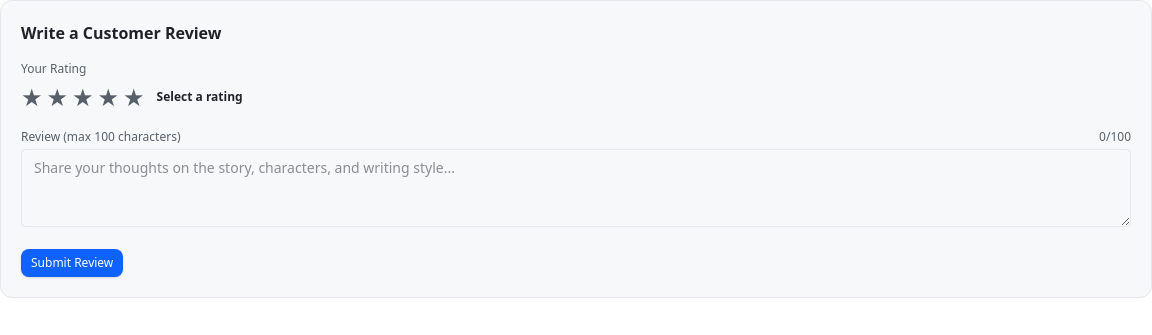
Scenario: ReviewFormTest › emptyBodyBlocked: an empty review is not sent
Click the button named "Rate 4 stars" at (108, 97), box left=98, top=81, right=119, bottom=113
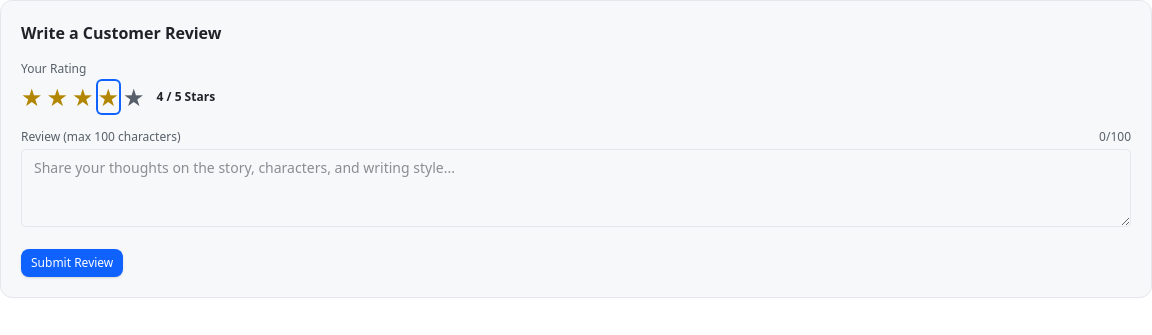
Click the button "Submit Review" at (72, 263), box left=21, top=249, right=123, bottom=277
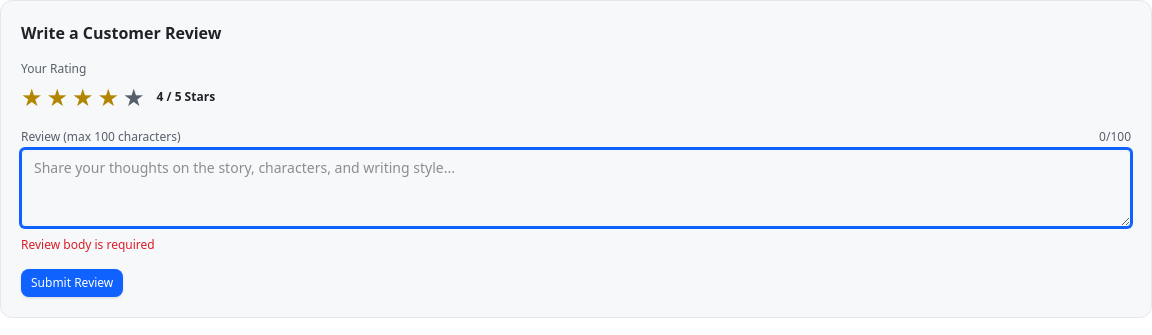
Result: the text "Review body is required" is shown at left=21, top=236, right=155, bottom=253
